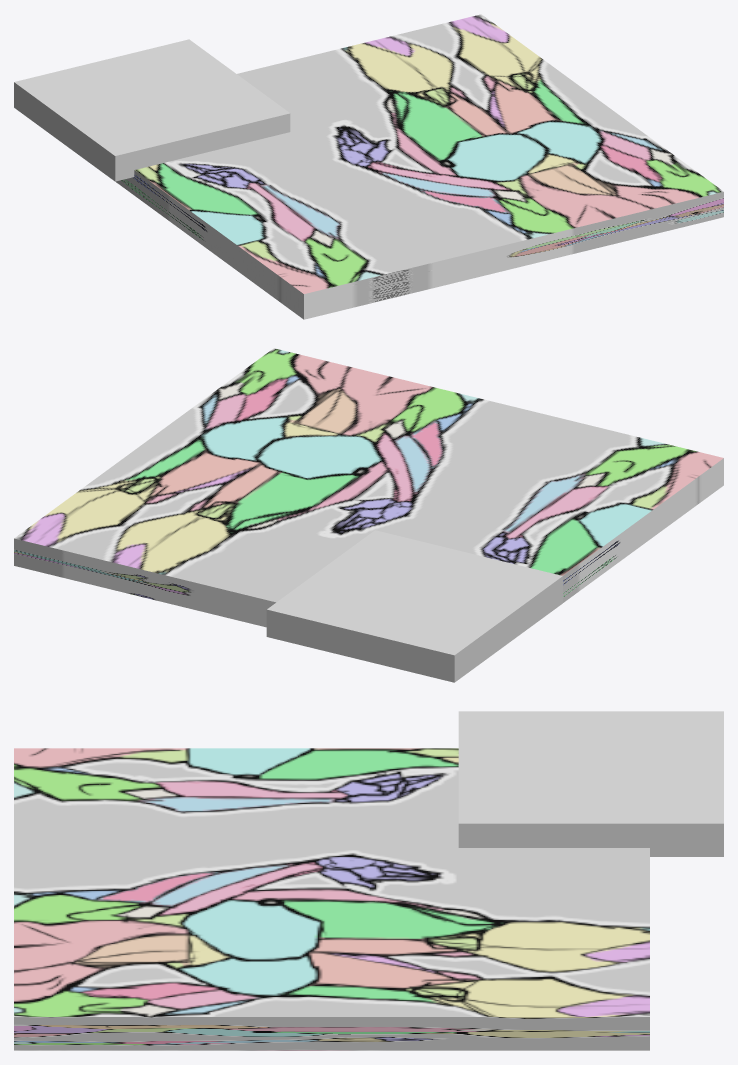
The picture shows the model from 3 angles, top to bottom: view 1: azimuth 30°, elevation 25°; view 2: azimuth 150°, elevation 25°; view 3: azimuth 270°, elevation 25°; orthographic projection. The views are drawn at different scales.
Parts seen in each view (by area): view 1: floor [collider], Cube [collider] [grass]; view 2: floor [collider], Cube [collider] [grass]; view 3: floor [collider], Cube [collider] [grass].
Boxes of the visible parts, x1,y1,x2,y2 form: floor [collider]: [116, 14, 723, 319]; Cube [collider] [grass]: [14, 39, 290, 181]; floor [collider]: [14, 348, 723, 627]; Cube [collider] [grass]: [266, 530, 562, 682]; floor [collider]: [14, 748, 649, 1050]; Cube [collider] [grass]: [458, 711, 723, 856].
Size of the model in its own units: 35.96 by 3.46 by 38.38.
Materials: 1 (1 with a texture image).
